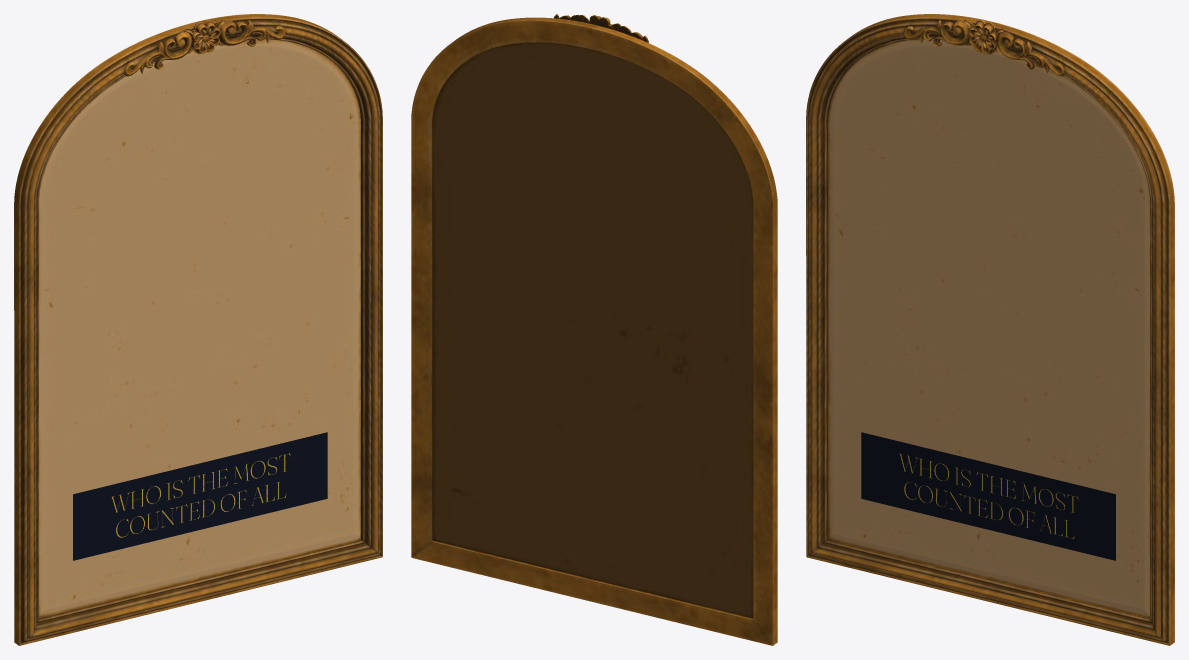
The model's file is nyb_enchanted_mirror.glb.
3 views of the same model, side by side, from view 1: azimuth 30°, elevation 25°; view 2: azimuth 150°, elevation 25°; view 3: azimuth 330°, elevation 25° (orthographic).
Parts seen in each view (by area): view 1: ornate_mirror_01, stk_lbl_6018de410f.png; view 2: ornate_mirror_01; view 3: ornate_mirror_01, stk_lbl_6018de410f.png.
Part boxes in pixels (<box>): ornate_mirror_01: <box>14,14,382,645</box>; stk_lbl_6018de410f.png: <box>73,432,327,560</box>; ornate_mirror_01: <box>411,14,777,645</box>; ornate_mirror_01: <box>806,14,1174,645</box>; stk_lbl_6018de410f.png: <box>861,432,1115,560</box>.
Size of the model in its own units: 0.4865 by 0.7442 by 0.026.
Materials: 2 (2 with a texture image).
